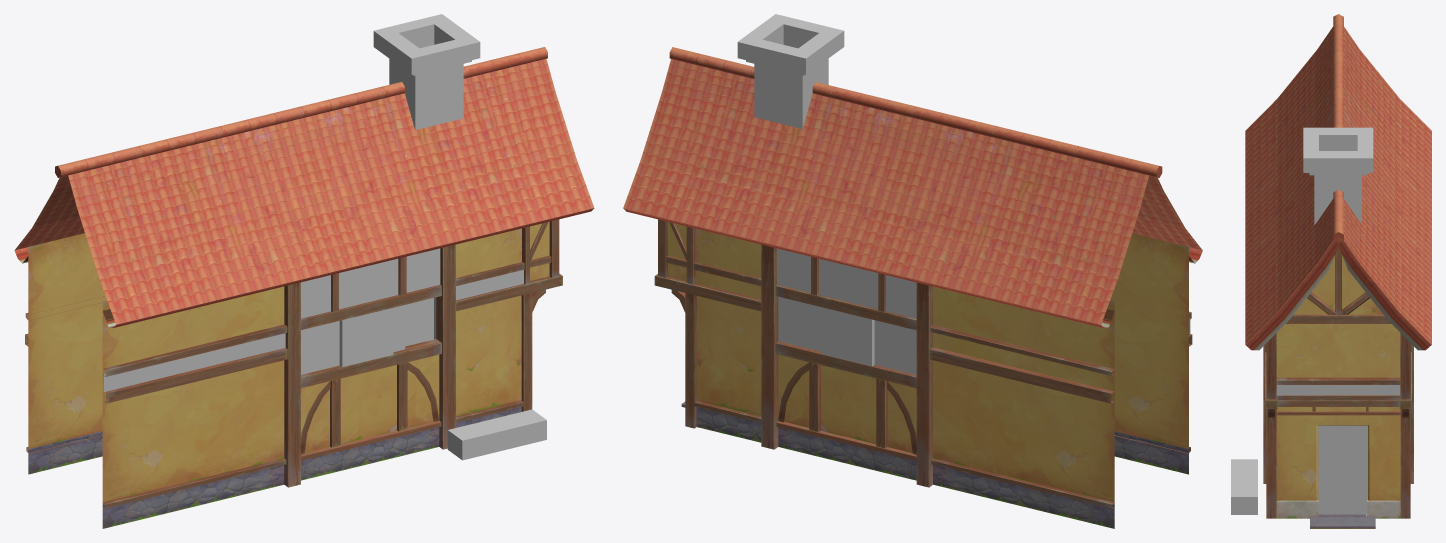
File: Chapter03_Buggy_building05B_LOD.fbx
3 renders of one model, left to right at view 1: azimuth 30°, elevation 25°; view 2: azimuth 150°, elevation 25°; view 3: azimuth 270°, elevation 25°, orthographic. The views are drawn at different scales.
Parts seen in each view (by area): view 1: Chapter03_Buggy_building05B_LOD; view 2: Chapter03_Buggy_building05B_LOD; view 3: Chapter03_Buggy_building05B_LOD.
Part boxes in pixels (box(x1,y1,x2,y2)): Chapter03_Buggy_building05B_LOD: box(14, 14, 594, 528); Chapter03_Buggy_building05B_LOD: box(623, 14, 1202, 528); Chapter03_Buggy_building05B_LOD: box(1231, 14, 1431, 528).
Size of the model in its own units: 1147 by 850 by 446.
